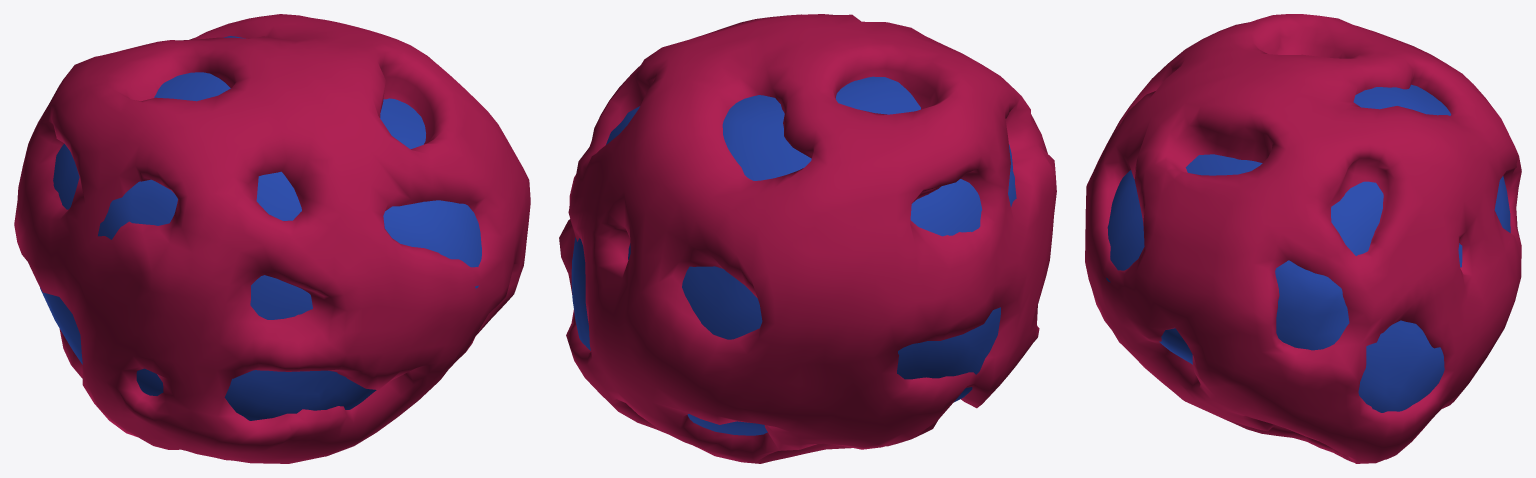
The model's file is ResourceNode0218.FBX.
3 views of the same model, side by side, from view 1: azimuth 30°, elevation 25°; view 2: azimuth 150°, elevation 25°; view 3: azimuth 270°, elevation 25° (orthographic). The views are drawn at different scales.
Parts seen in each view (by area): view 1: outside, inside; view 2: outside, inside; view 3: outside, inside.
Boxes of the visible parts, x1=… form: outside: x1=14, y1=14, x2=530, y2=463; inside: x1=40, y1=36, x2=481, y2=420; outside: x1=559, y1=14, x2=1056, y2=463; inside: x1=571, y1=76, x2=1016, y2=435; outside: x1=1085, y1=14, x2=1521, y2=463; inside: x1=1106, y1=84, x2=1510, y2=412.
Bounding box in the file's own units: 142 × 124 × 136.
